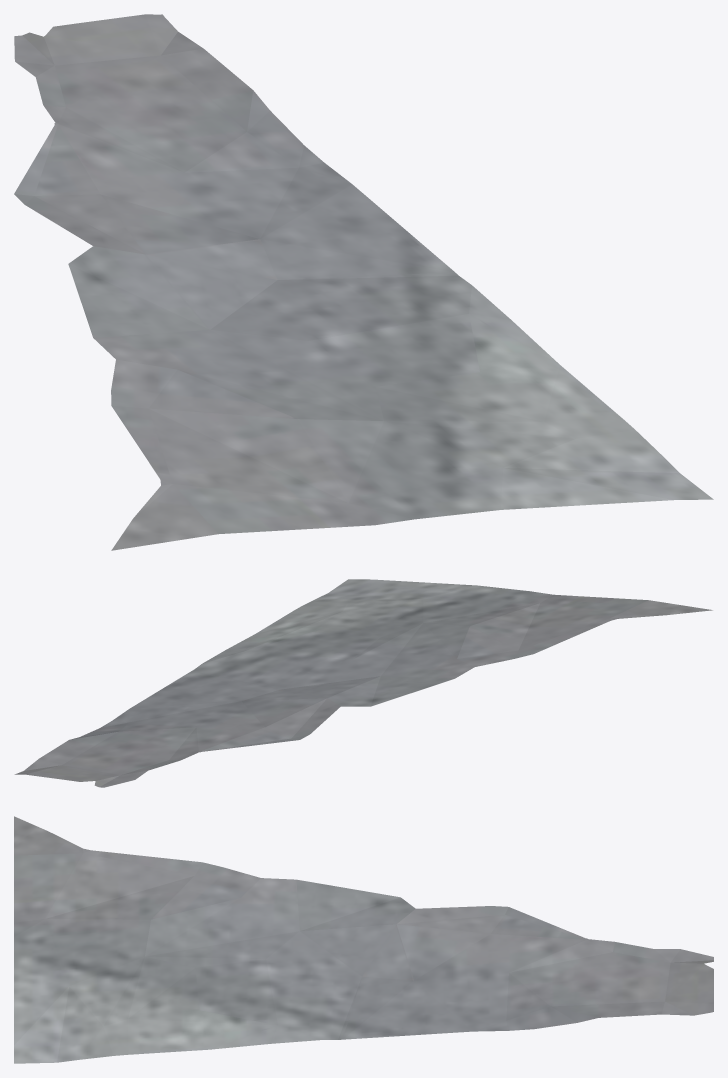
3 views of the same model, one above another, from view 1: azimuth 30°, elevation 25°; view 2: azimuth 150°, elevation 25°; view 3: azimuth 270°, elevation 25° (orthographic). The views are drawn at different scales.
Bounding box in the file's own units: 1.06 × 0.1606 × 1.67.
Materials: 1 (1 with a texture image).
